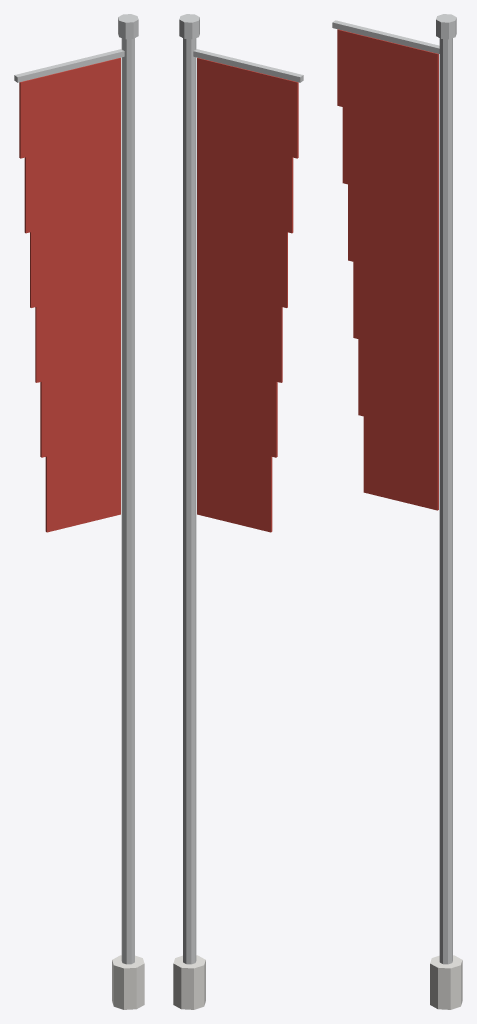
The model's file is Banner_Flag_Red.fbx.
3 views of the same model, side by side, from view 1: azimuth 30°, elevation 25°; view 2: azimuth 150°, elevation 25°; view 3: azimuth 330°, elevation 25° (orthographic).
Parts seen in each view (by area): view 1: Banner_Flag_Red; view 2: Banner_Flag_Red; view 3: Banner_Flag_Red.
Part boxes in pixels (left/top/right/bottom): Banner_Flag_Red: left=14, top=14, right=144, bottom=1009; Banner_Flag_Red: left=173, top=14, right=303, bottom=1009; Banner_Flag_Red: left=332, top=14, right=462, bottom=1009.
Size of the model in its own units: 0.96 by 7.12 by 0.22.
